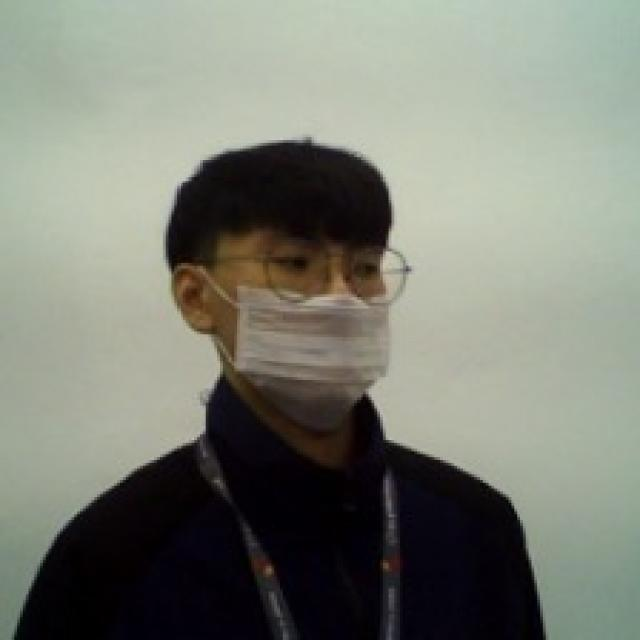mask: (177, 270, 400, 437)
no_gloves: (162, 136, 422, 297)
